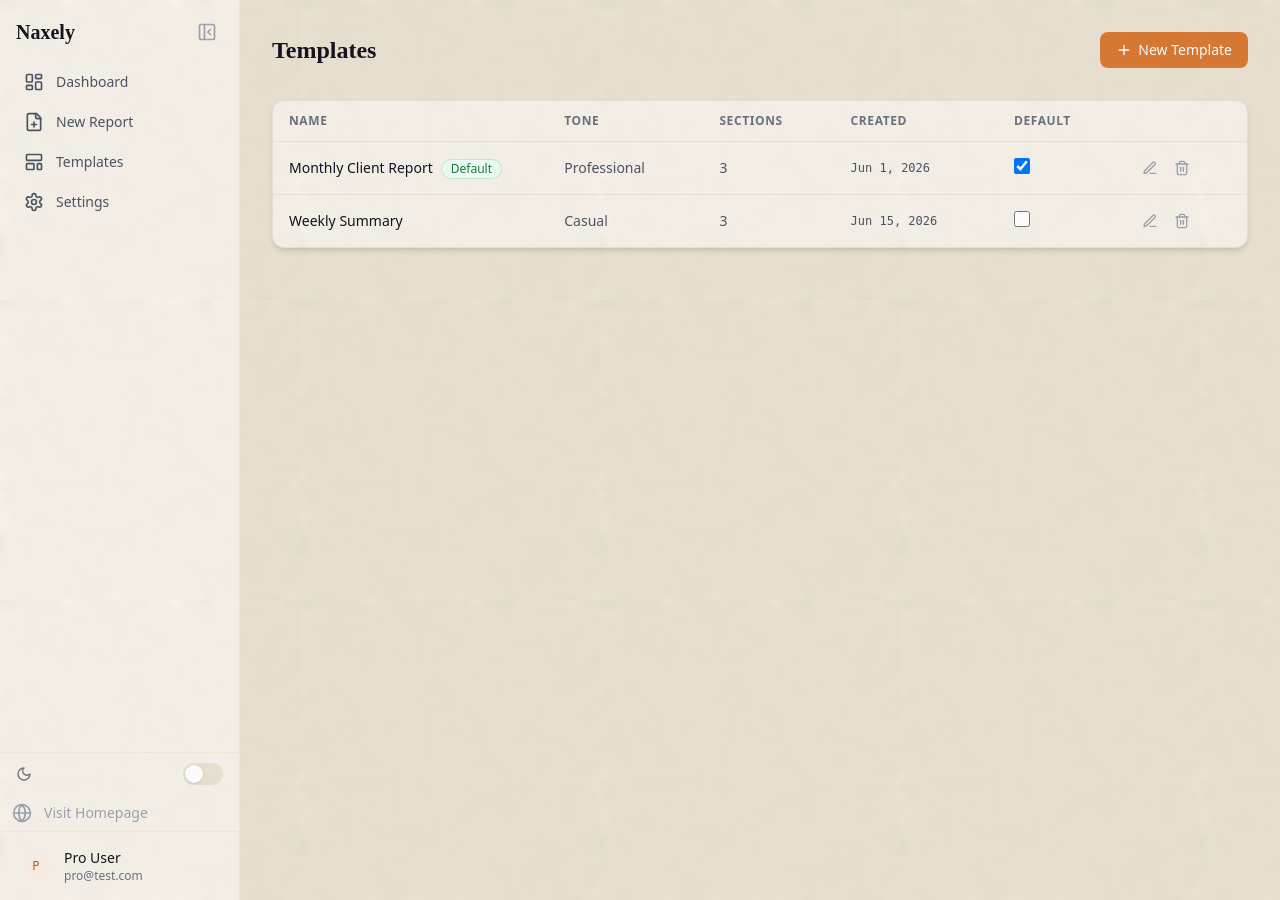
Test case: Templates › opens edit form with pre-filled values
expect the text "Monthly Client Report" is shown: met, box [289,158,433,176]
What coordinates should you click on to do the following:
click the button titled "Edit" in the row of "Monthly Client Report"
I would click on:
 (1150, 168)
Its box is [1136,154,1164,182].
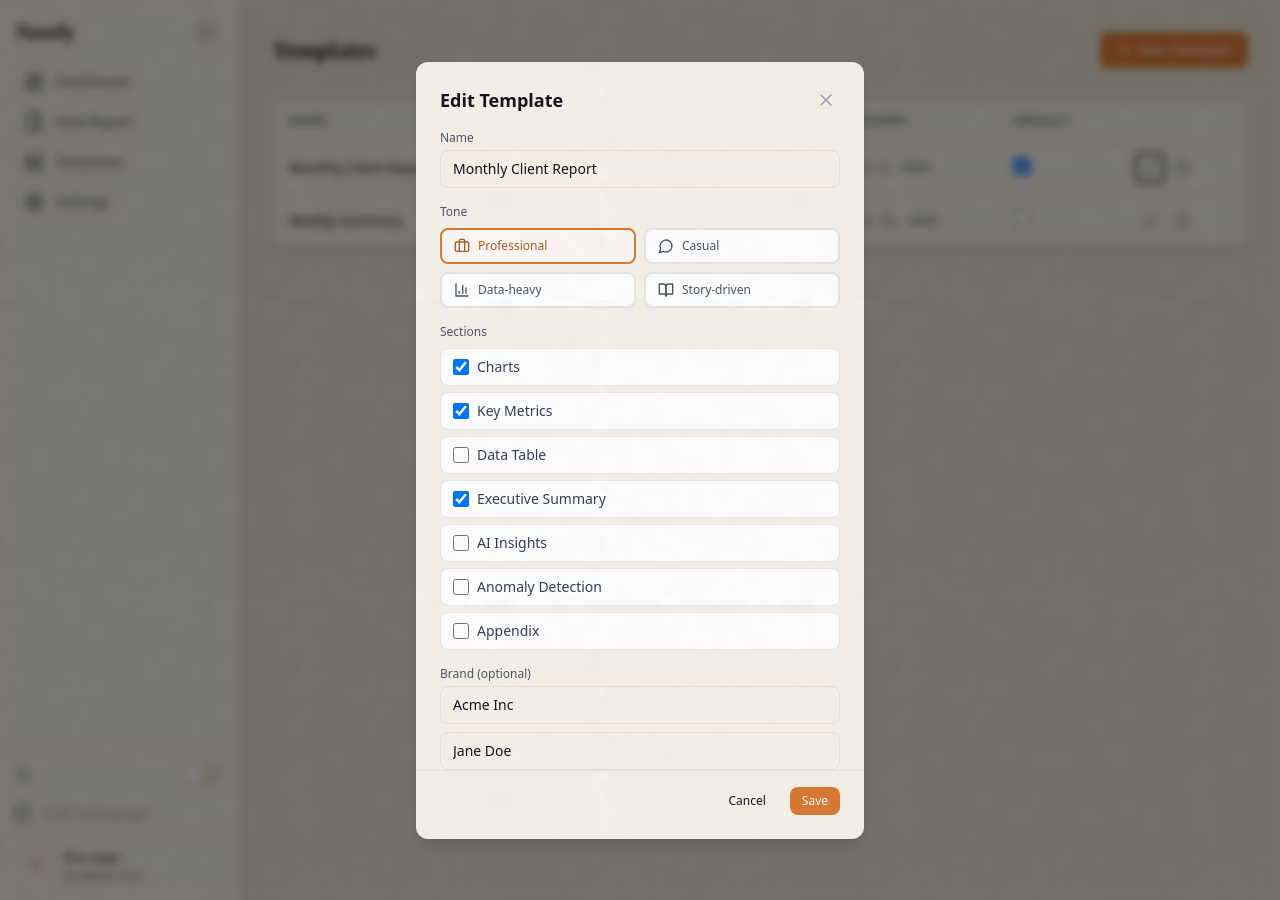
expect the 1st field showing "Monthly Client Report" is shown: met, box [440,150,840,188]
